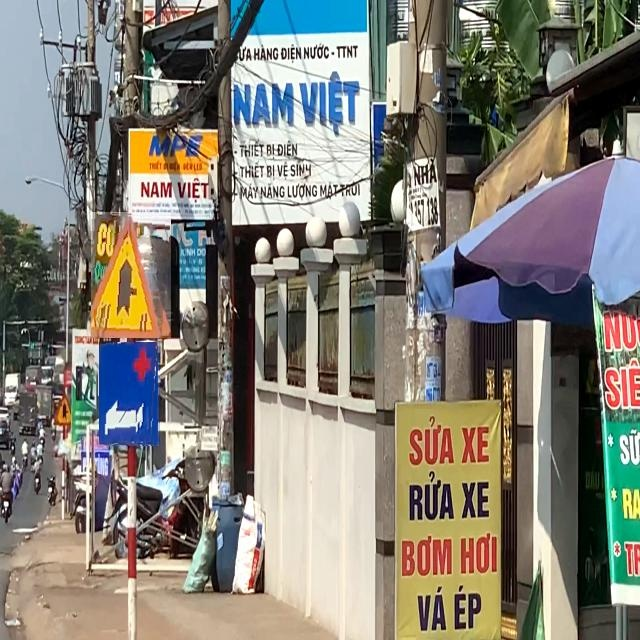bien_nguy_hiem: (91, 212, 171, 338), (100, 342, 160, 446)
